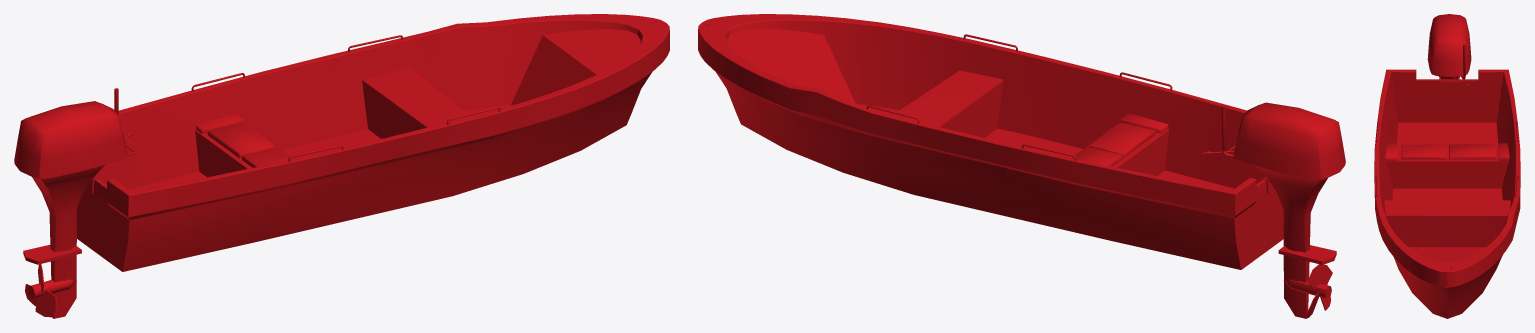
Rendered from boat2.glb.
3 views of the same model, side by side, from view 1: azimuth 30°, elevation 25°; view 2: azimuth 150°, elevation 25°; view 3: azimuth 270°, elevation 25° (orthographic). The views are drawn at different scales.
Parts seen in each view (by area): view 1: boat; view 2: boat; view 3: boat.
Part boxes in pixels (x1,y1,x2,y2): boat: (14,14,669,318); boat: (698,14,1345,318); boat: (1374,14,1520,318).
Size of the model in its own units: 270 by 81.97 by 74.4.
